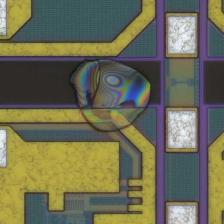COATING BAD: (70, 51, 154, 135)
